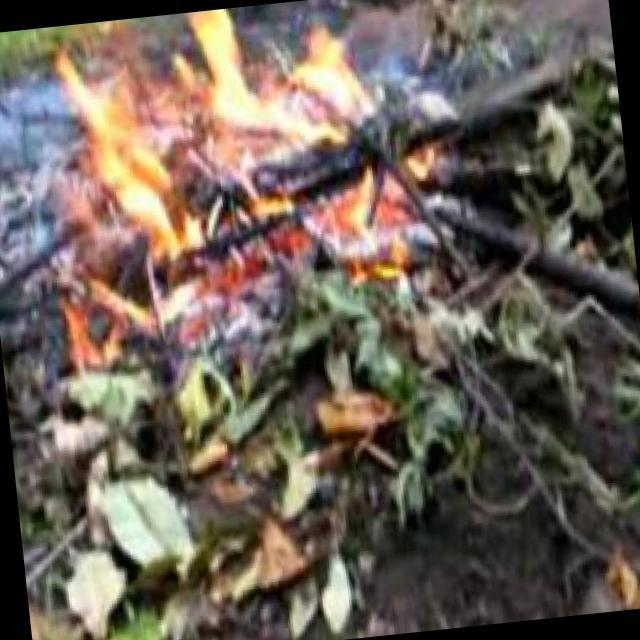Fire: (25, 15, 199, 292), (186, 1, 384, 198)
